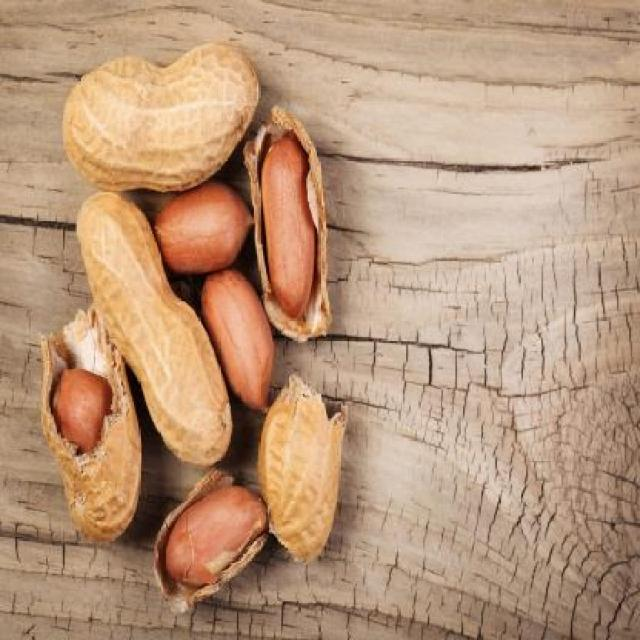Frutta secca: (36, 45, 350, 613)
